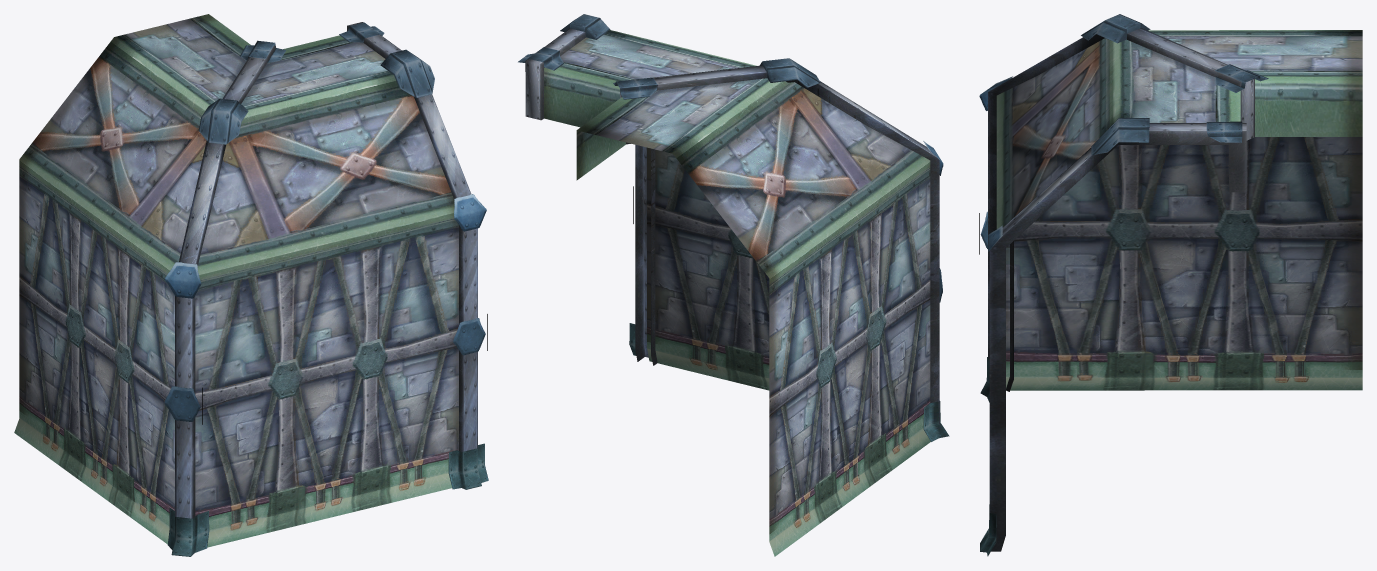
File: obj_madaprrevetmentiron90l.glb
3 renders of one model, left to right at view 1: azimuth 30°, elevation 25°; view 2: azimuth 150°, elevation 25°; view 3: azimuth 270°, elevation 25°, orthographic. The views are drawn at different scales.
Visible parts, largest first — view 1: part_0; view 2: part_0; view 3: part_0.
Part boxes in pixels (<box>): part_0: <box>14,14,488,556</box>; part_0: <box>518,14,949,556</box>; part_0: <box>979,14,1362,556</box>.
Size of the model in its own units: 13.31 by 15.38 by 12.6.
Materials: 1 (1 with a texture image).
